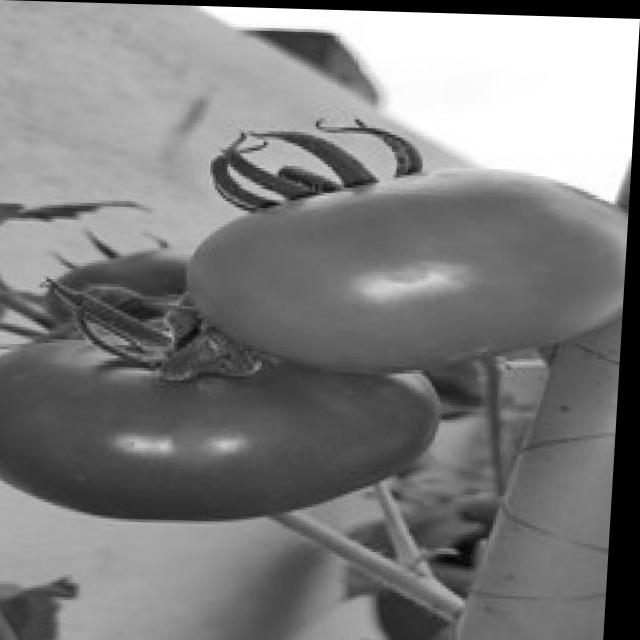sari: (186, 119, 635, 367)
